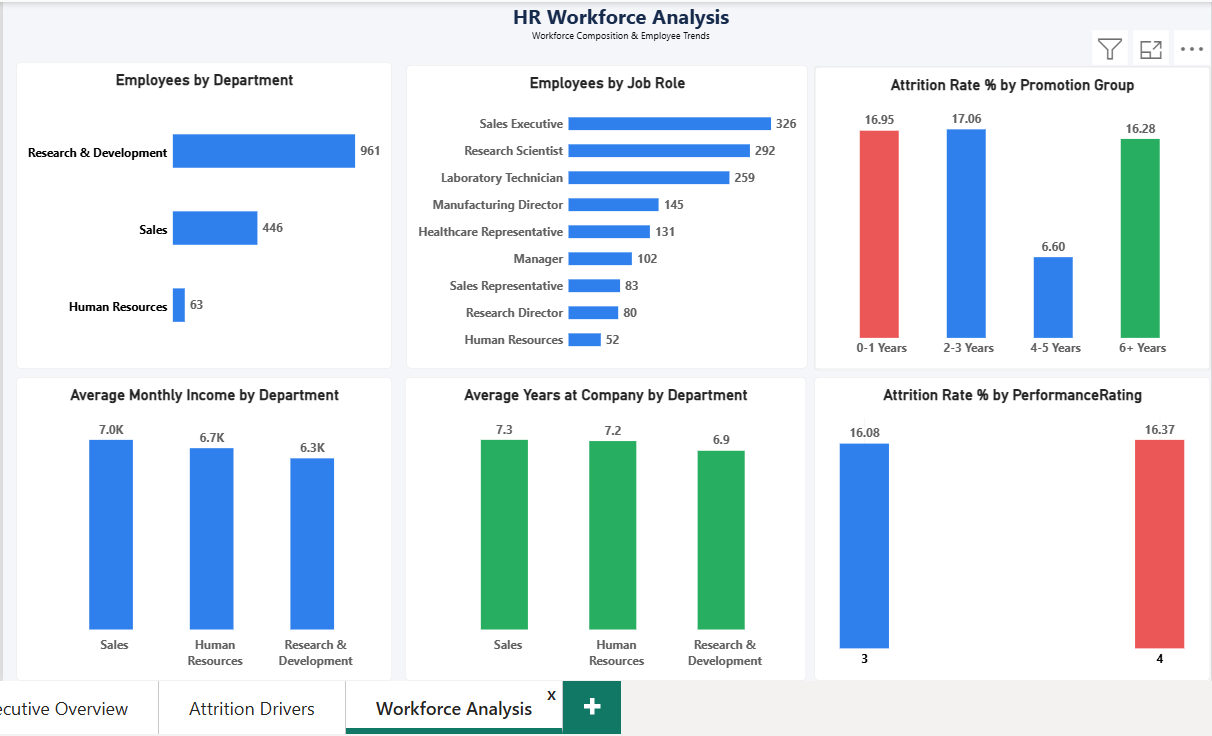

What the dashboard file says about the page in this screenshot:
{"tool":"powerbi","page":{"name":" Workforce Analysis","canvas":[1920,1080],"ordinal":2},"visuals":[{"type":"clusteredBarChart","title":"Employees by Department","fields":{"Category":["HR-Employee-Attrition.Department"],"Y":["Measures Table.Total Employees"]},"box":[21.8,94.6,596.9,487.7],"z":0},{"type":"clusteredBarChart","title":"Employees by Job Role","fields":{"Category":["HR-Employee-Attrition.JobRole"],"Y":["Measures Table.Total Employees"]},"box":[643,99.5,638.1,482.8],"z":1000},{"type":"clusteredColumnChart","fields":{"Category":["HR-Employee-Attrition.Department"],"Y":["Measures Table.Average Monthly Income"]},"box":[22,597,597,483],"z":2000},{"type":"clusteredColumnChart","fields":{"Category":["HR-Employee-Attrition.Department"],"Y":["Measures Table.Average Years at Company"]},"box":[640.5,596.9,638,483],"z":3000},{"type":"clusteredColumnChart","fields":{"Category":["HR-Employee-Attrition.PerformanceRating"],"Y":["Measures Table.Attrition Rate"]},"box":[1290.8,596.9,629,483],"z":4000},{"type":"clusteredColumnChart","fields":{"Category":["HR-Employee-Attrition.Promotion Group"],"Y":["Measures Table.Attrition Rate"]},"box":[1290.8,101.9,629,483],"z":5000},{"type":"textbox","box":[492.5,0,982.7,67.9],"z":6000}]}

Visuals, with their boxes on the page's 1920x1080 design canvas (x1, y1, x2, y2). These are canvas units, not pixel positions in the 1212x736 screenshot, which may show the page scaled, cropped or inside an application window:
"Employees by Department" clusteredBarChart: x1=22, y1=95, x2=619, y2=582
"Employees by Job Role" clusteredBarChart: x1=643, y1=100, x2=1281, y2=582
clusteredColumnChart - HR-Employee-Attrition.Department x Measures Table.Average Monthly Income: x1=22, y1=597, x2=619, y2=1080
clusteredColumnChart - HR-Employee-Attrition.Department x Measures Table.Average Years at Company: x1=640, y1=597, x2=1278, y2=1080
clusteredColumnChart - HR-Employee-Attrition.PerformanceRating x Measures Table.Attrition Rate: x1=1291, y1=597, x2=1920, y2=1080
clusteredColumnChart - HR-Employee-Attrition.Promotion Group x Measures Table.Attrition Rate: x1=1291, y1=102, x2=1920, y2=585
textbox: x1=492, y1=0, x2=1475, y2=68
